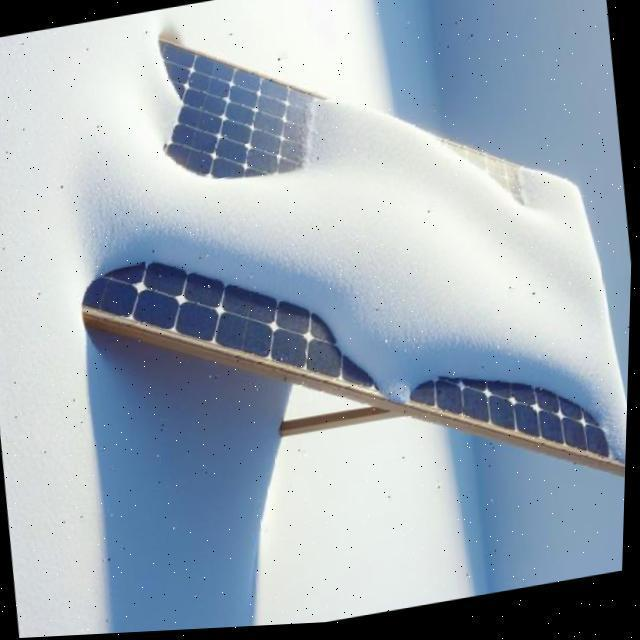Anomaly Solar Panel: (42, 36, 633, 505)
Snow: (43, 38, 633, 507)
